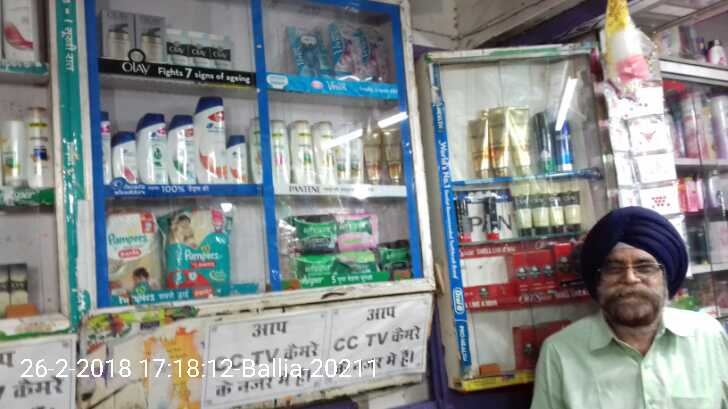venus: (357, 24, 387, 79), (295, 26, 323, 75), (333, 20, 355, 76)
